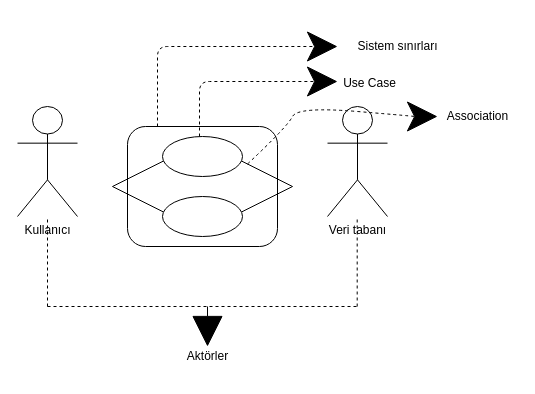
The diagram is 535 pixels wide and 394 high, and some of its shapes have lost their labels. The centre of each missing label's shape, as x and y in pixels:
"Raporlama" belongs at (x=202, y=216).
"Siparis Girisi" belongs at (x=202, y=156).
